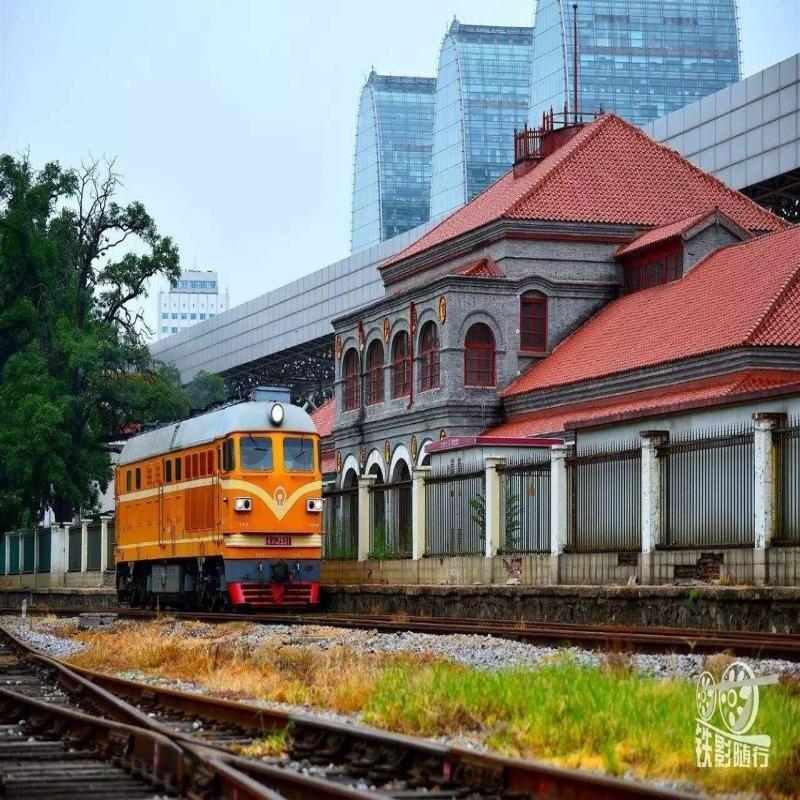train: (97, 355, 333, 639)
